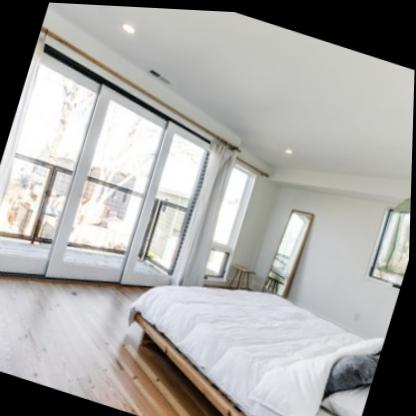Bed: (132, 283, 387, 416)
Wooden floor: (0, 276, 222, 416)
